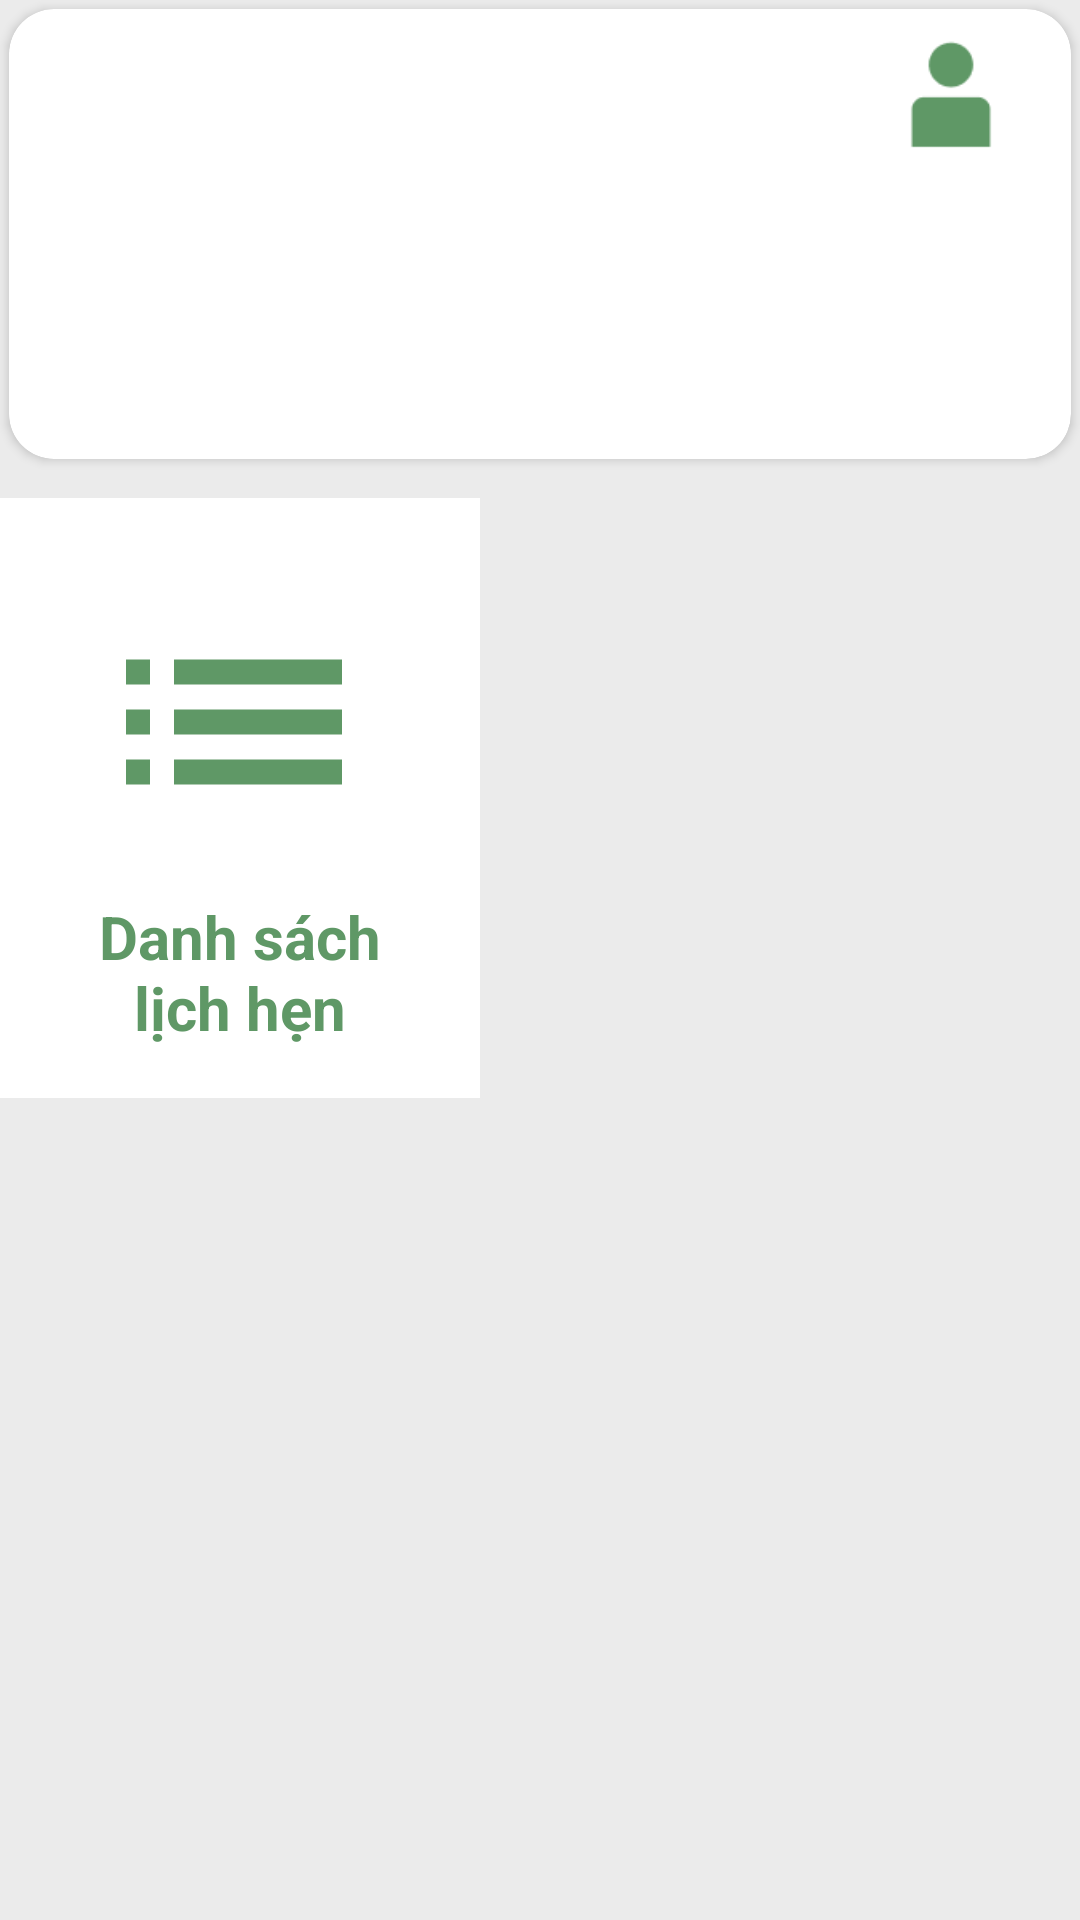

Named icons in this screenshot (1080x1920) and their bounding boxes, (x1, y1, x2, y2):
list: (126, 659, 342, 785)
self: (911, 42, 991, 147)
